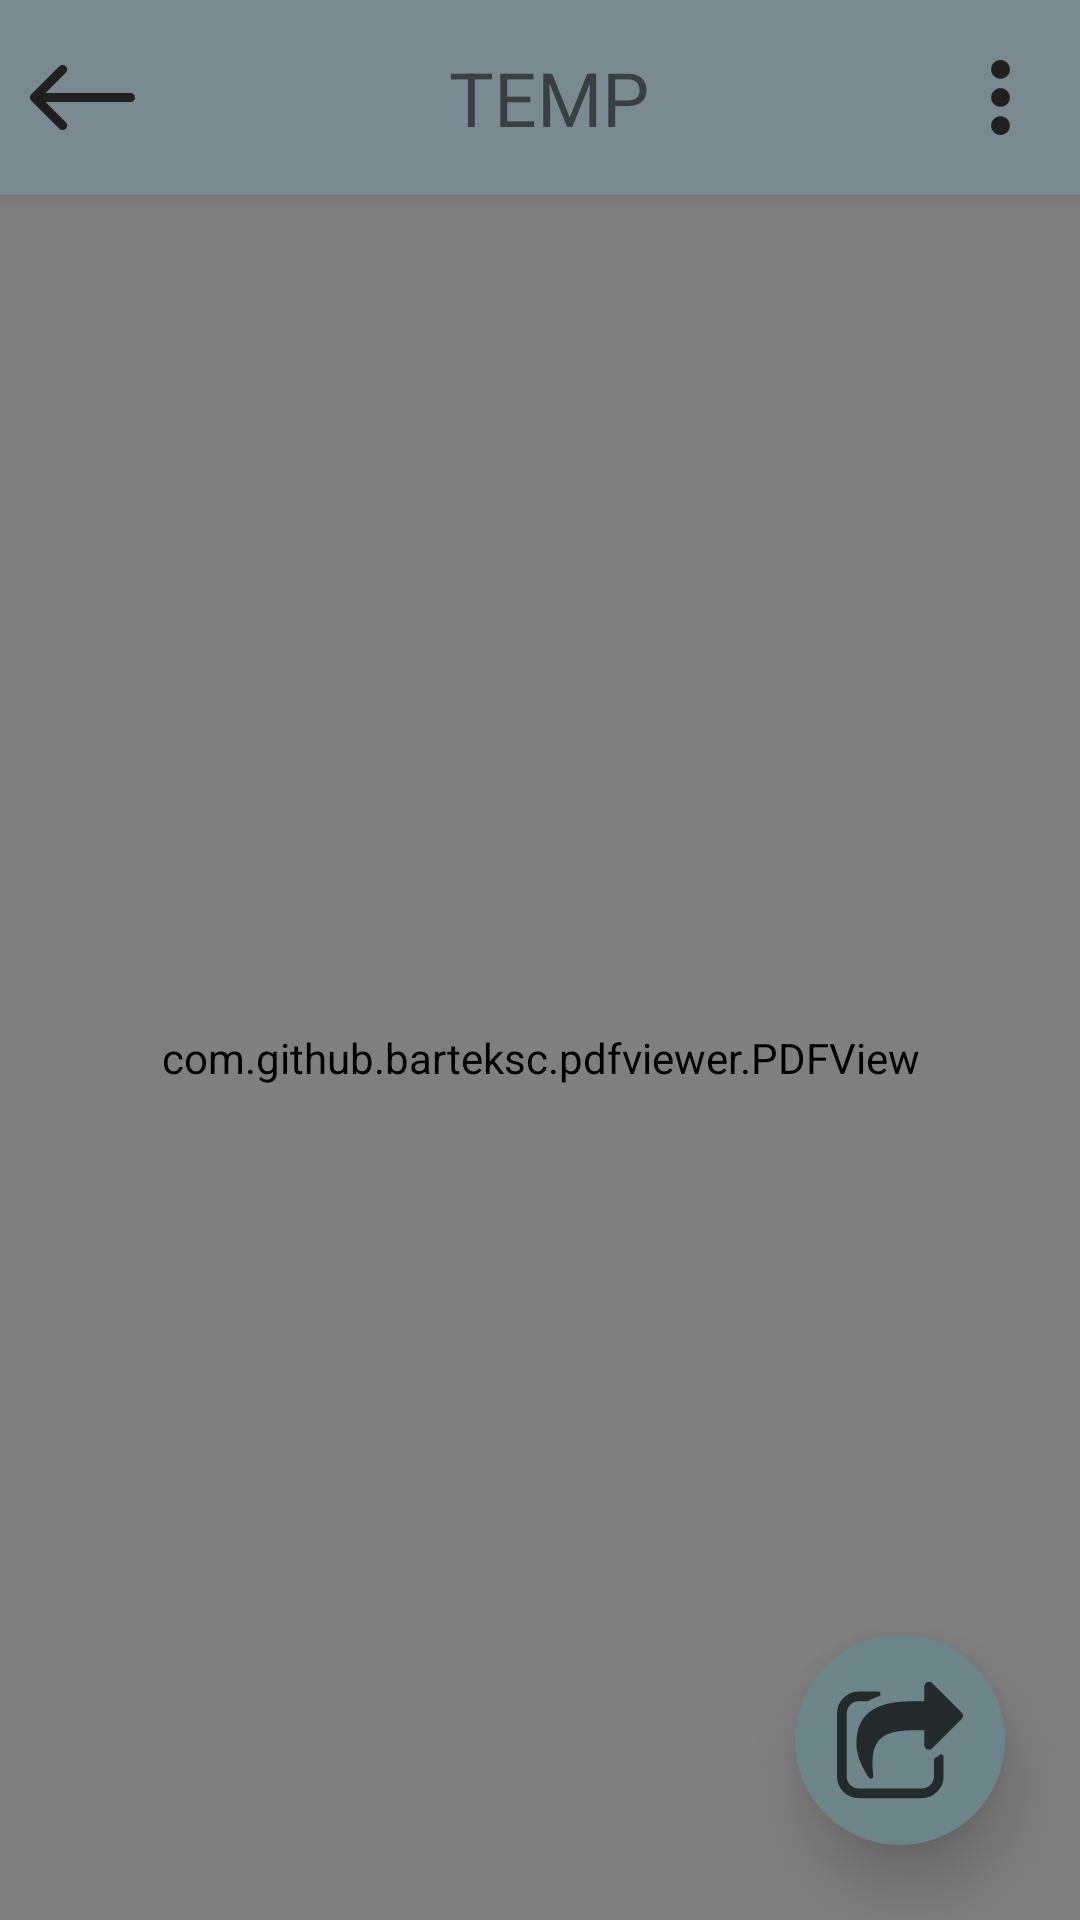

Icon bounding boxes for this 1080px x 1920px phone screenshot, format (x1, y1, x2, y2):
back arrow: (30, 65, 135, 130)
menu: (991, 60, 1010, 135)
